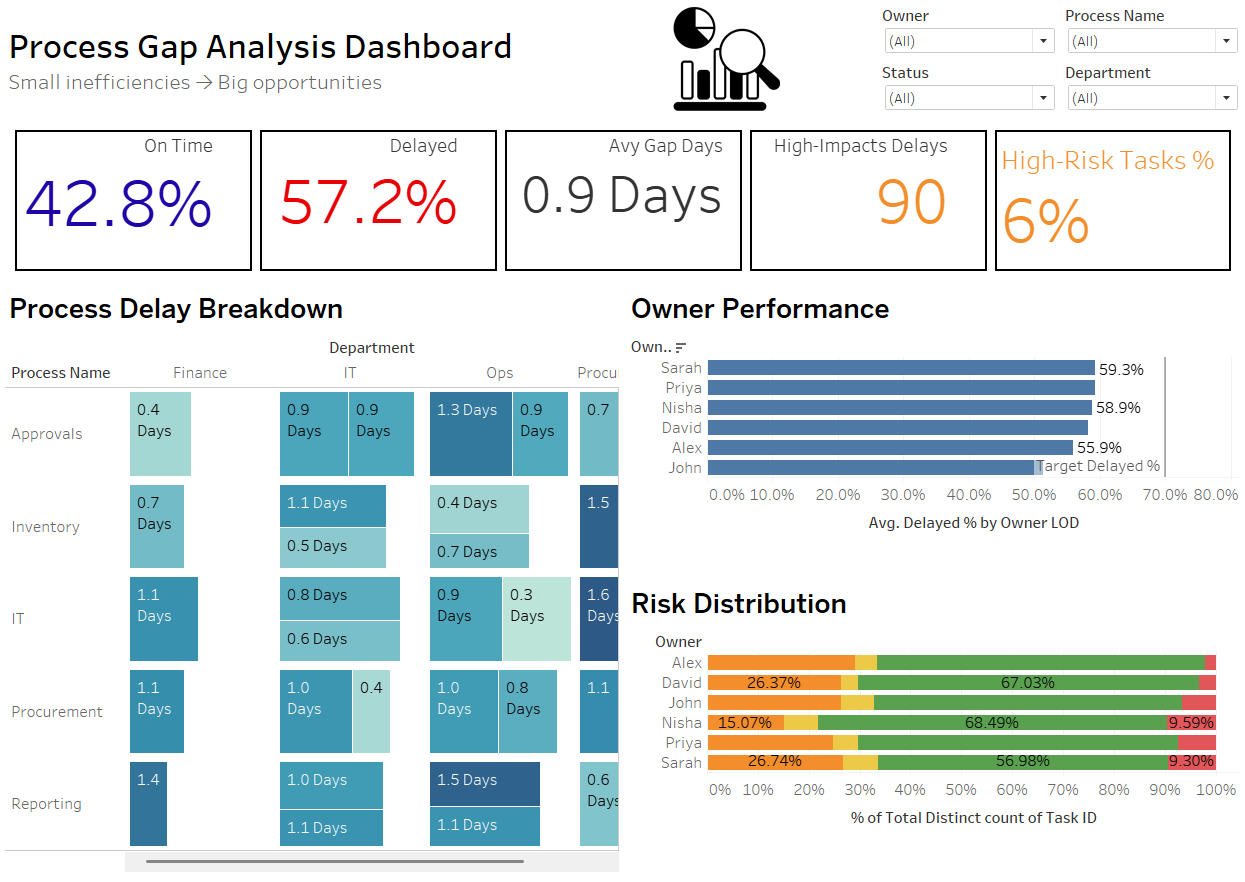

Layout of this report page (visuals, bound fields, positions):
{"tool":"tableau","page":{"name":"Process Gap Analysis Dashboard","canvas":[1260,917],"ordinal":0},"visuals":[{"type":"text","box":[8,8,574,114.9]},{"type":"image","param":"Image/result.png","box":[582,8,302.8,114.9]},{"type":"filter","title":"Average Delay by Process and Department","param":"[federated.1fw353w0e0pr4519jg9x31ukgg9m].[none:Owner:nk]","box":[884.7,8,183.6,57.4]},{"type":"filter","title":"Average Delay by Process and Department","param":"[federated.1fw353w0e0pr4519jg9x31ukgg9m].[none:Process_Name:nk]","box":[1068.4,8,183.6,57.4]},{"type":"filter","title":"Average Delay by Process and Department","param":"[federated.1fw353w0e0pr4519jg9x31ukgg9m].[none:Status:nk]","box":[884.7,65.4,183.6,57.4]},{"type":"filter","title":"Average Delay by Process and Department","param":"[federated.1fw353w0e0pr4519jg9x31ukgg9m].[none:Department:nk]","box":[1068.4,65.4,183.6,57.4]},{"type":"worksheet","title":"KPI_On-Time","mark":"Automatic","box":[18,133,245,149]},{"type":"worksheet","title":"KPI_Delayed","mark":"Automatic","box":[263,133,245,149]},{"type":"worksheet","title":"KPI_AvgGapDays","mark":"Automatic","box":[508,133,245,149]},{"type":"worksheet","title":"KPI_HighImpact","mark":"Automatic","box":[753,133,245,149]},{"type":"worksheet","title":"KPI_Critical","mark":"Automatic","box":[998,133,244,149]},{"type":"worksheet","title":"Average Delay by Process and Department","mark":"Automatic","rows":["Process_Name"],"cols":["Department"],"box":[8,292,622,617]},{"type":"worksheet","title":"BarChart_OwnerPerformance","mark":"Bar","rows":["Owner"],"cols":["Calculation_1537697857752403972"],"box":[630,292,622,295]},{"type":"worksheet","title":"Scatter_RiskZones.","mark":"Automatic","rows":["Owner"],"box":[630,587,622,322]}]}

Visuals, with their boxes in screenshot pixels (x1, y1, x2, y2), scaled from the page's 1260x917 canvas onto the 1245x882 screenshot:
text: (x1=8, y1=8, x2=575, y2=118)
image: (x1=575, y1=8, x2=874, y2=118)
"Average Delay by Process and Department" filter: (x1=874, y1=8, x2=1056, y2=63)
"Average Delay by Process and Department" filter: (x1=1056, y1=8, x2=1237, y2=63)
"Average Delay by Process and Department" filter: (x1=874, y1=63, x2=1056, y2=118)
"Average Delay by Process and Department" filter: (x1=1056, y1=63, x2=1237, y2=118)
"KPI_On-Time" worksheet: (x1=18, y1=128, x2=260, y2=271)
"KPI_Delayed" worksheet: (x1=260, y1=128, x2=502, y2=271)
"KPI_AvgGapDays" worksheet: (x1=502, y1=128, x2=744, y2=271)
"KPI_HighImpact" worksheet: (x1=744, y1=128, x2=986, y2=271)
"KPI_Critical" worksheet: (x1=986, y1=128, x2=1227, y2=271)
"Average Delay by Process and Department" worksheet: (x1=8, y1=281, x2=622, y2=874)
"BarChart_OwnerPerformance" worksheet (Bar marks): (x1=622, y1=281, x2=1237, y2=565)
"Scatter_RiskZones." worksheet: (x1=622, y1=565, x2=1237, y2=874)
